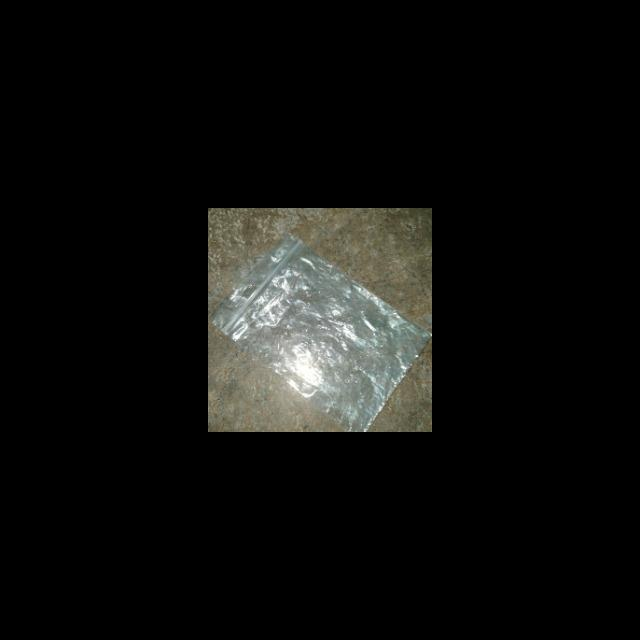plastic: (208, 230, 431, 431)
